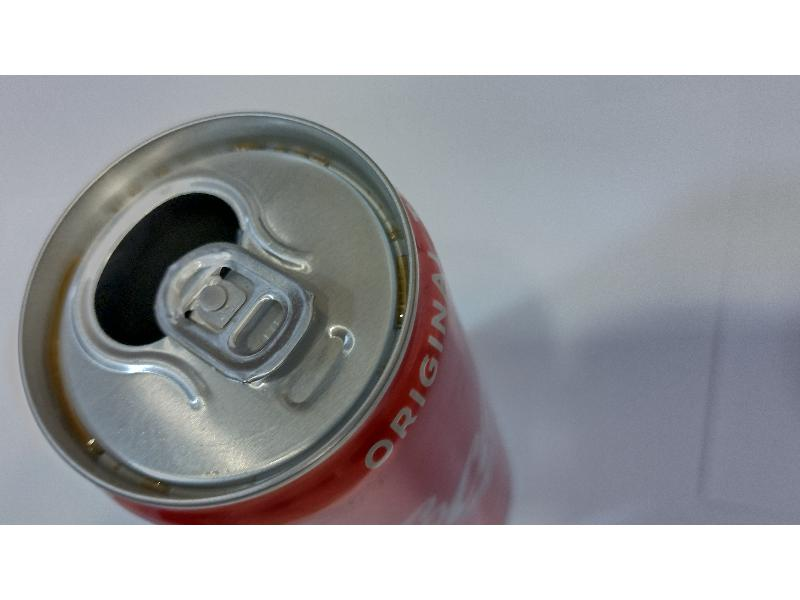can: (12, 99, 525, 525)
